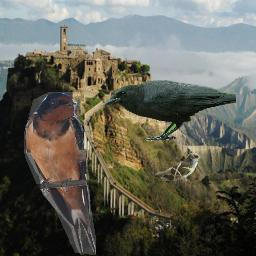Crow: (103, 80, 237, 142)
Cuckoo: (155, 152, 203, 181)
Swallow: (24, 92, 96, 255)
